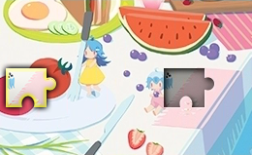gap: (164, 67, 213, 108)
